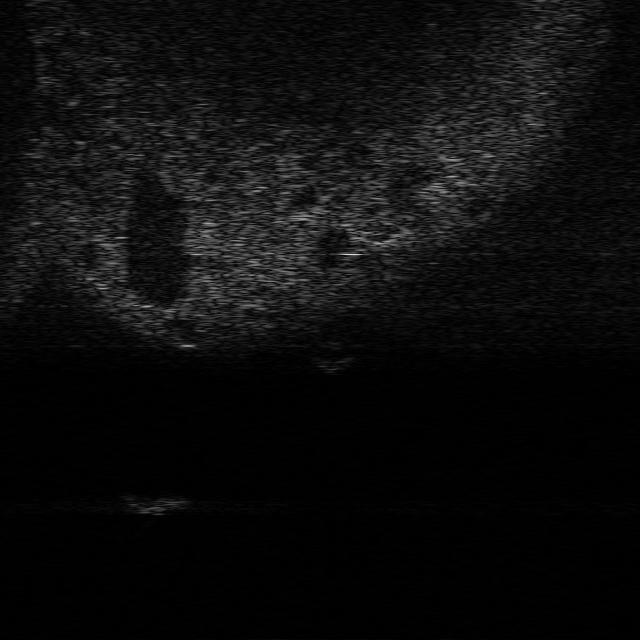ball: (309, 342, 355, 373)
cube: (118, 491, 190, 516)
